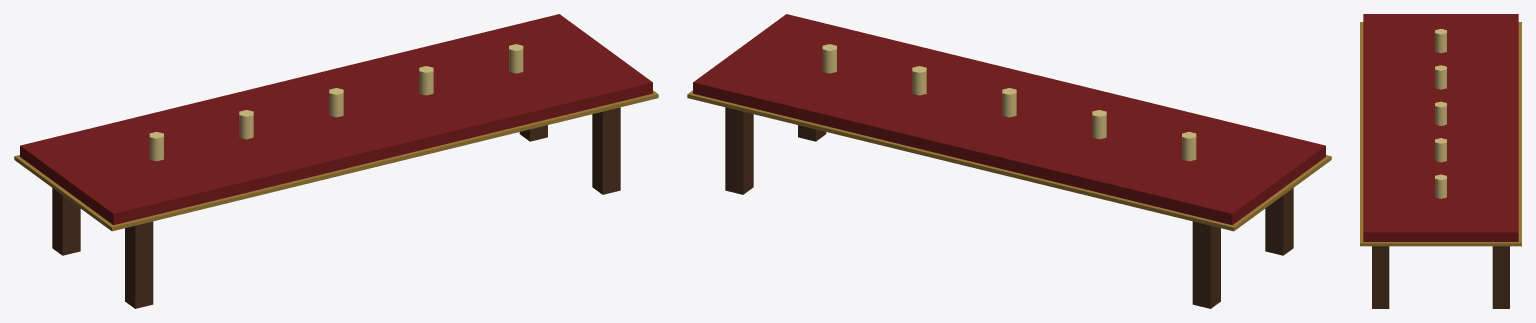
Rendered from palace_f_banquet_table.glb.
3 views of the same model, side by side, from view 1: azimuth 30°, elevation 25°; view 2: azimuth 150°, elevation 25°; view 3: azimuth 270°, elevation 25° (orthographic). The views are drawn at different scales.
Visible parts, largest first — view 1: sw5e_int_palace_f_banquet_table; view 2: sw5e_int_palace_f_banquet_table; view 3: sw5e_int_palace_f_banquet_table.
Boxes of the visible parts, <box> form: sw5e_int_palace_f_banquet_table: <box>14,14,658,308</box>; sw5e_int_palace_f_banquet_table: <box>687,14,1331,308</box>; sw5e_int_palace_f_banquet_table: <box>1360,14,1521,308</box>.
Size of the model in its own units: 3.04 by 0.68 by 0.94.
